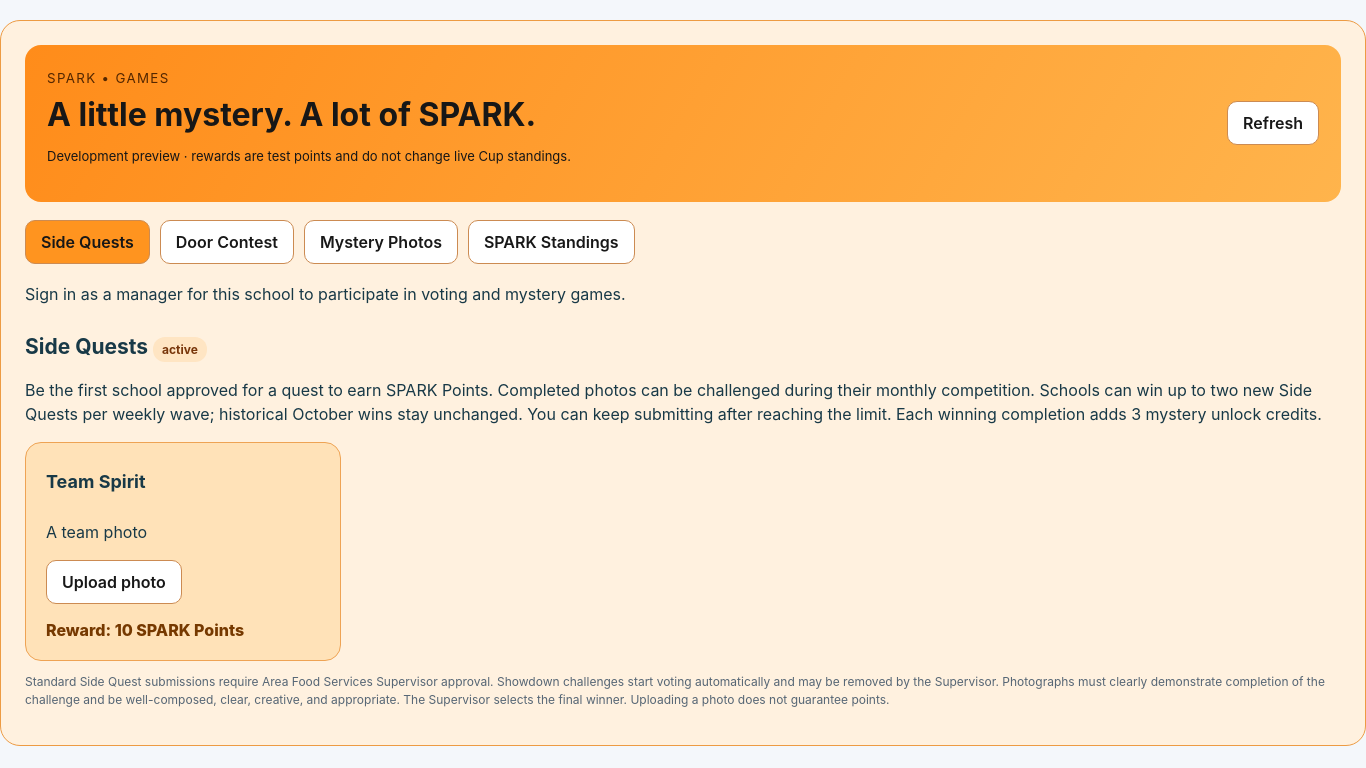
sessions without game identity remain blocked from voting
Step 1. Click the button "Door Contest" → x=227, y=242, box [160,220,294,264]
(page scrolled)
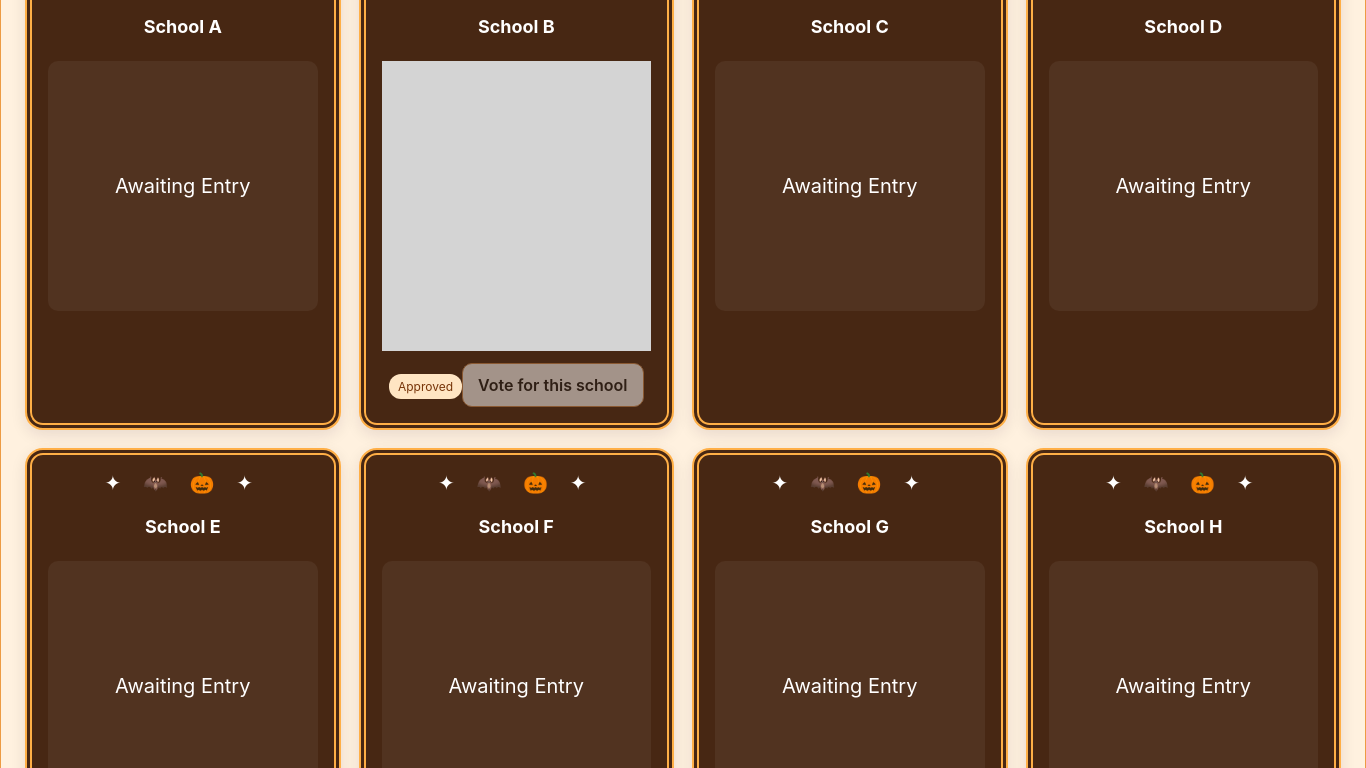
Check: the button "Vote for this school" is disabled, box [462,362,644,406]
